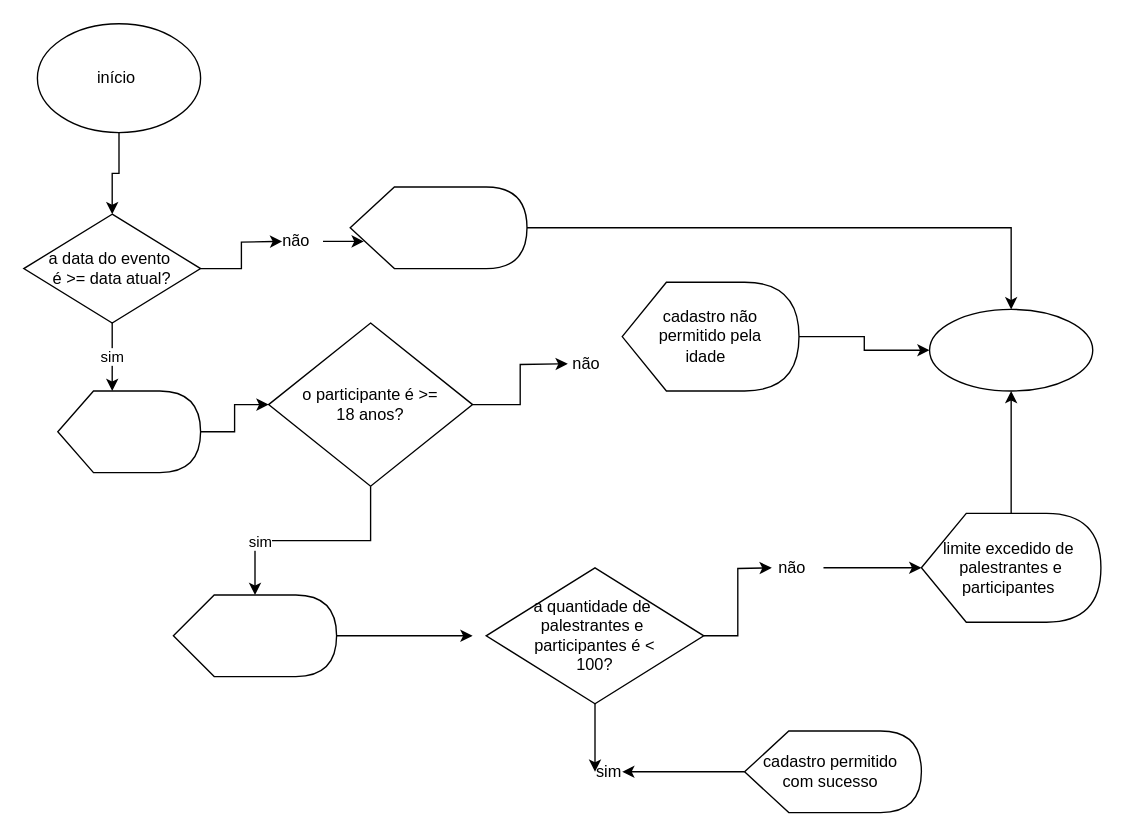
The diagram is 1125 pixels wide and 836 high, and some of its shapes have lost their labels. Here are the shapes that lost their labels. From the top down, the box of each, then its label:
(349, 186, 527, 269): não permitido pois a data é inválida
(928, 308, 1093, 391): fim
(56, 390, 201, 473): evento permitido
(172, 594, 337, 677): informe o número de palestrantes e participantes
